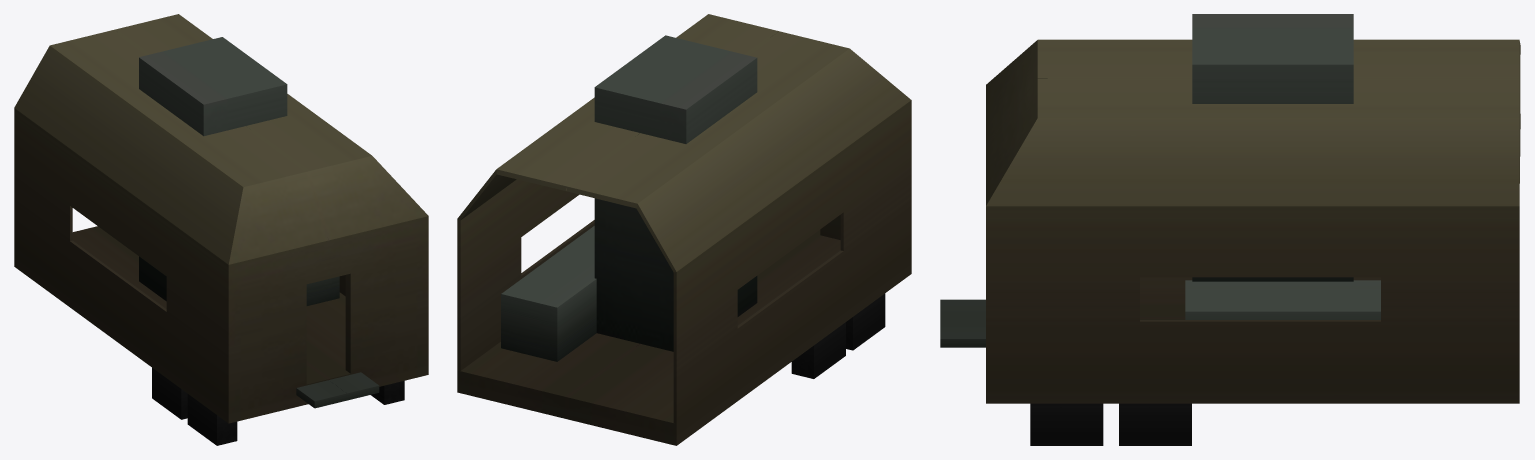
File: train_half_light_weapon_basewagon_placeholder_v011 1.fbx
3 views of the same model, side by side, from view 1: azimuth 30°, elevation 25°; view 2: azimuth 150°, elevation 25°; view 3: azimuth 270°, elevation 25° (orthographic). The views are drawn at different scales.
Parts seen in each view (by area): view 1: base v2, light gun v2; view 2: base v2, light gun v2; view 3: base v2, light gun v2.
Part boxes in pixels (box(x1,y1,x2,y2)): base v2: box(14, 14, 428, 445); light gun v2: box(139, 37, 339, 305); base v2: box(457, 14, 911, 445); light gun v2: box(501, 35, 757, 361); base v2: box(940, 39, 1520, 445); light gun v2: box(1185, 14, 1380, 319).
Bounding box in the file's own units: 296 × 597 × 397.
2 materials, 2 textured.
